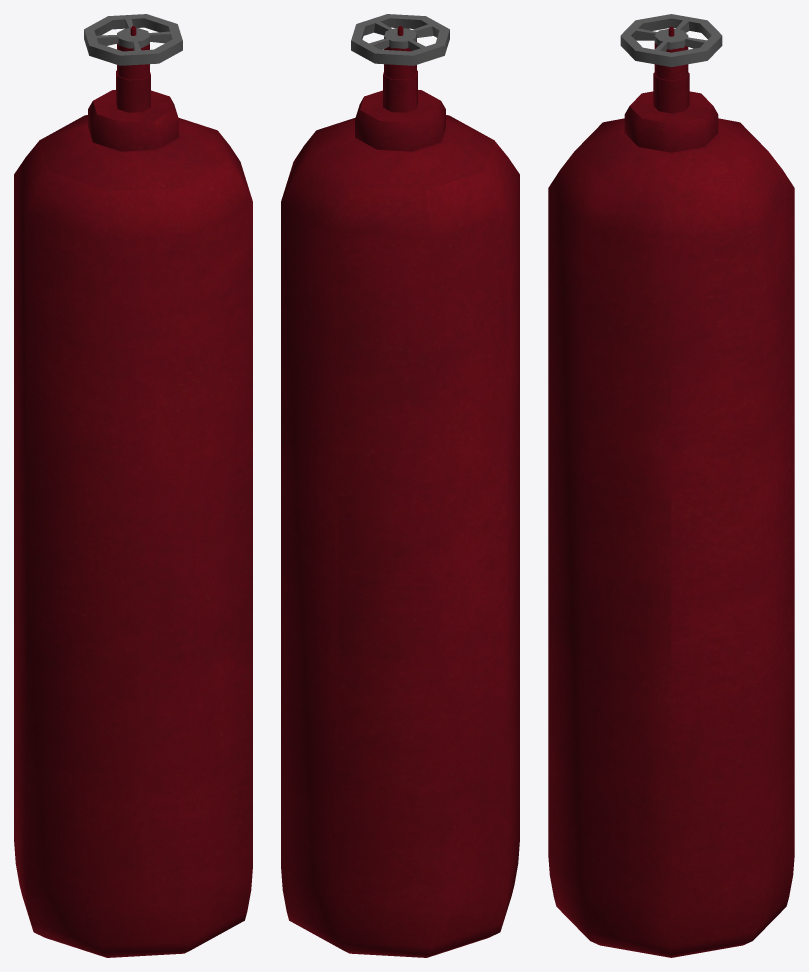
The model's file is gas_cylinder.obj.
3 views of the same model, side by side, from view 1: azimuth 30°, elevation 25°; view 2: azimuth 150°, elevation 25°; view 3: azimuth 270°, elevation 25° (orthographic).
Visible parts, largest first — view 1: gas_cylinder; view 2: gas_cylinder; view 3: gas_cylinder.
Boxes of the visible parts, x1=… form: gas_cylinder: x1=14, y1=14, x2=252, y2=957; gas_cylinder: x1=281, y1=14, x2=519, y2=957; gas_cylinder: x1=548, y1=14, x2=794, y2=957.
Bounding box in the file's own units: 0.2005 × 0.8 × 0.2005.
Materials: 1 (1 with a texture image).
